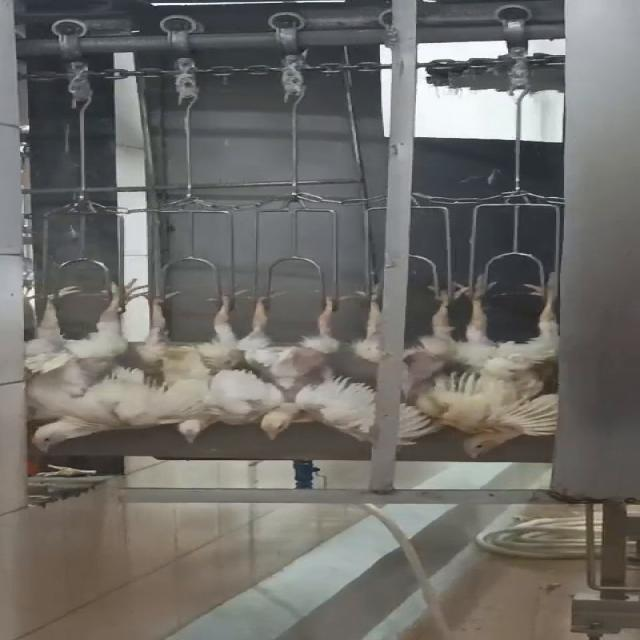chicken: (434, 266, 586, 458), (21, 279, 155, 458), (240, 279, 375, 444), (135, 283, 267, 443)
